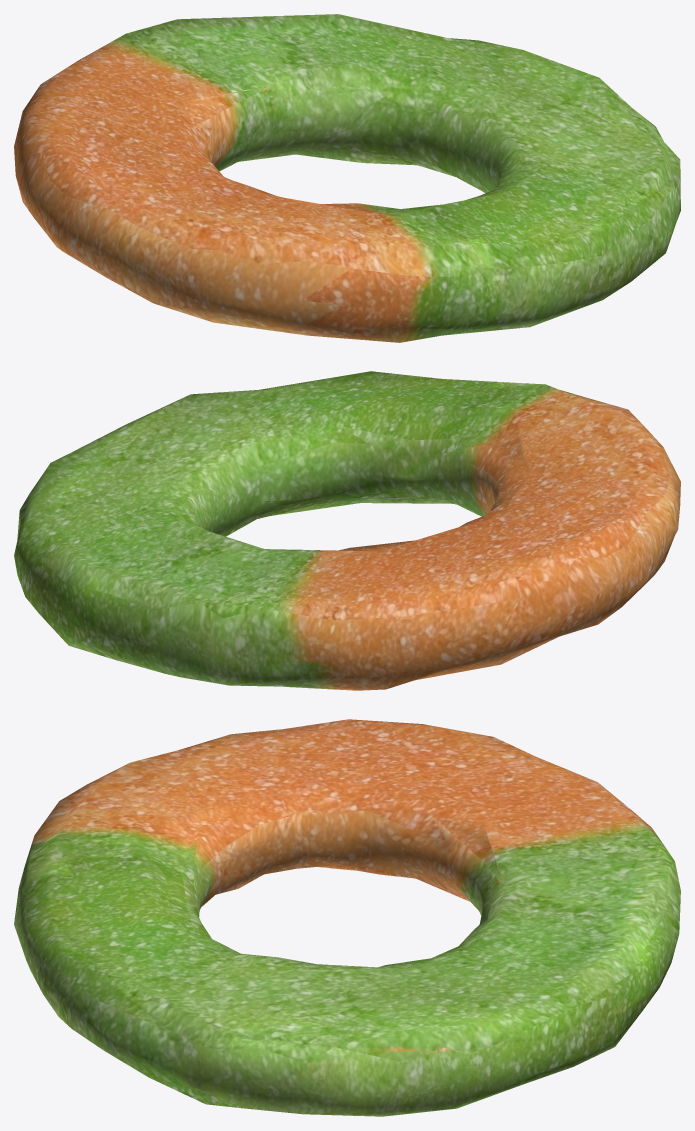
File: ring2.glb
3 views of the same model, one above another, from view 1: azimuth 30°, elevation 25°; view 2: azimuth 150°, elevation 25°; view 3: azimuth 270°, elevation 25° (orthographic).
Parts seen in each view (by area): view 1: Torus.004; view 2: Torus.004; view 3: Torus.004.
Boxes of the visible parts, x1=… form: Torus.004: x1=14, y1=14, x2=680, y2=342; Torus.004: x1=14, y1=371, x2=680, y2=690; Torus.004: x1=14, y1=719, x2=680, y2=1116.
Bounding box in the file's own units: 5.36 × 1.28 × 5.26.
Materials: 1 (1 with a texture image).
